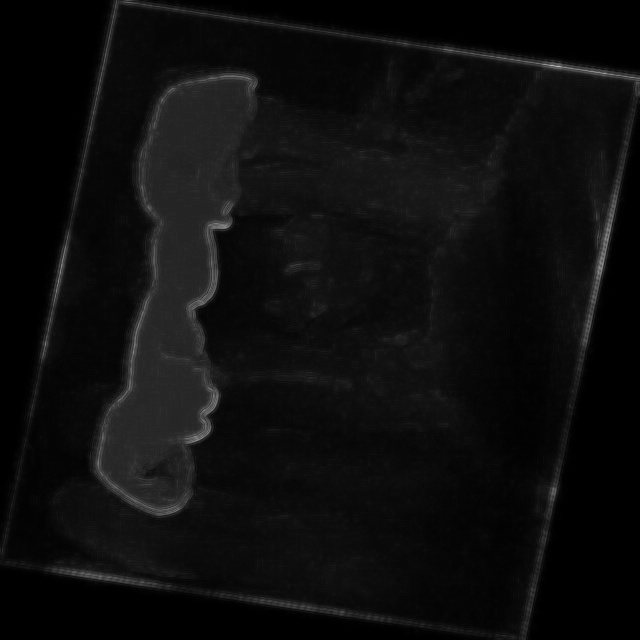Class 2- incomplete endodontic treatment: (62, 397, 388, 560), (111, 185, 423, 349), (102, 306, 390, 454)
cavity: (110, 55, 503, 259)
